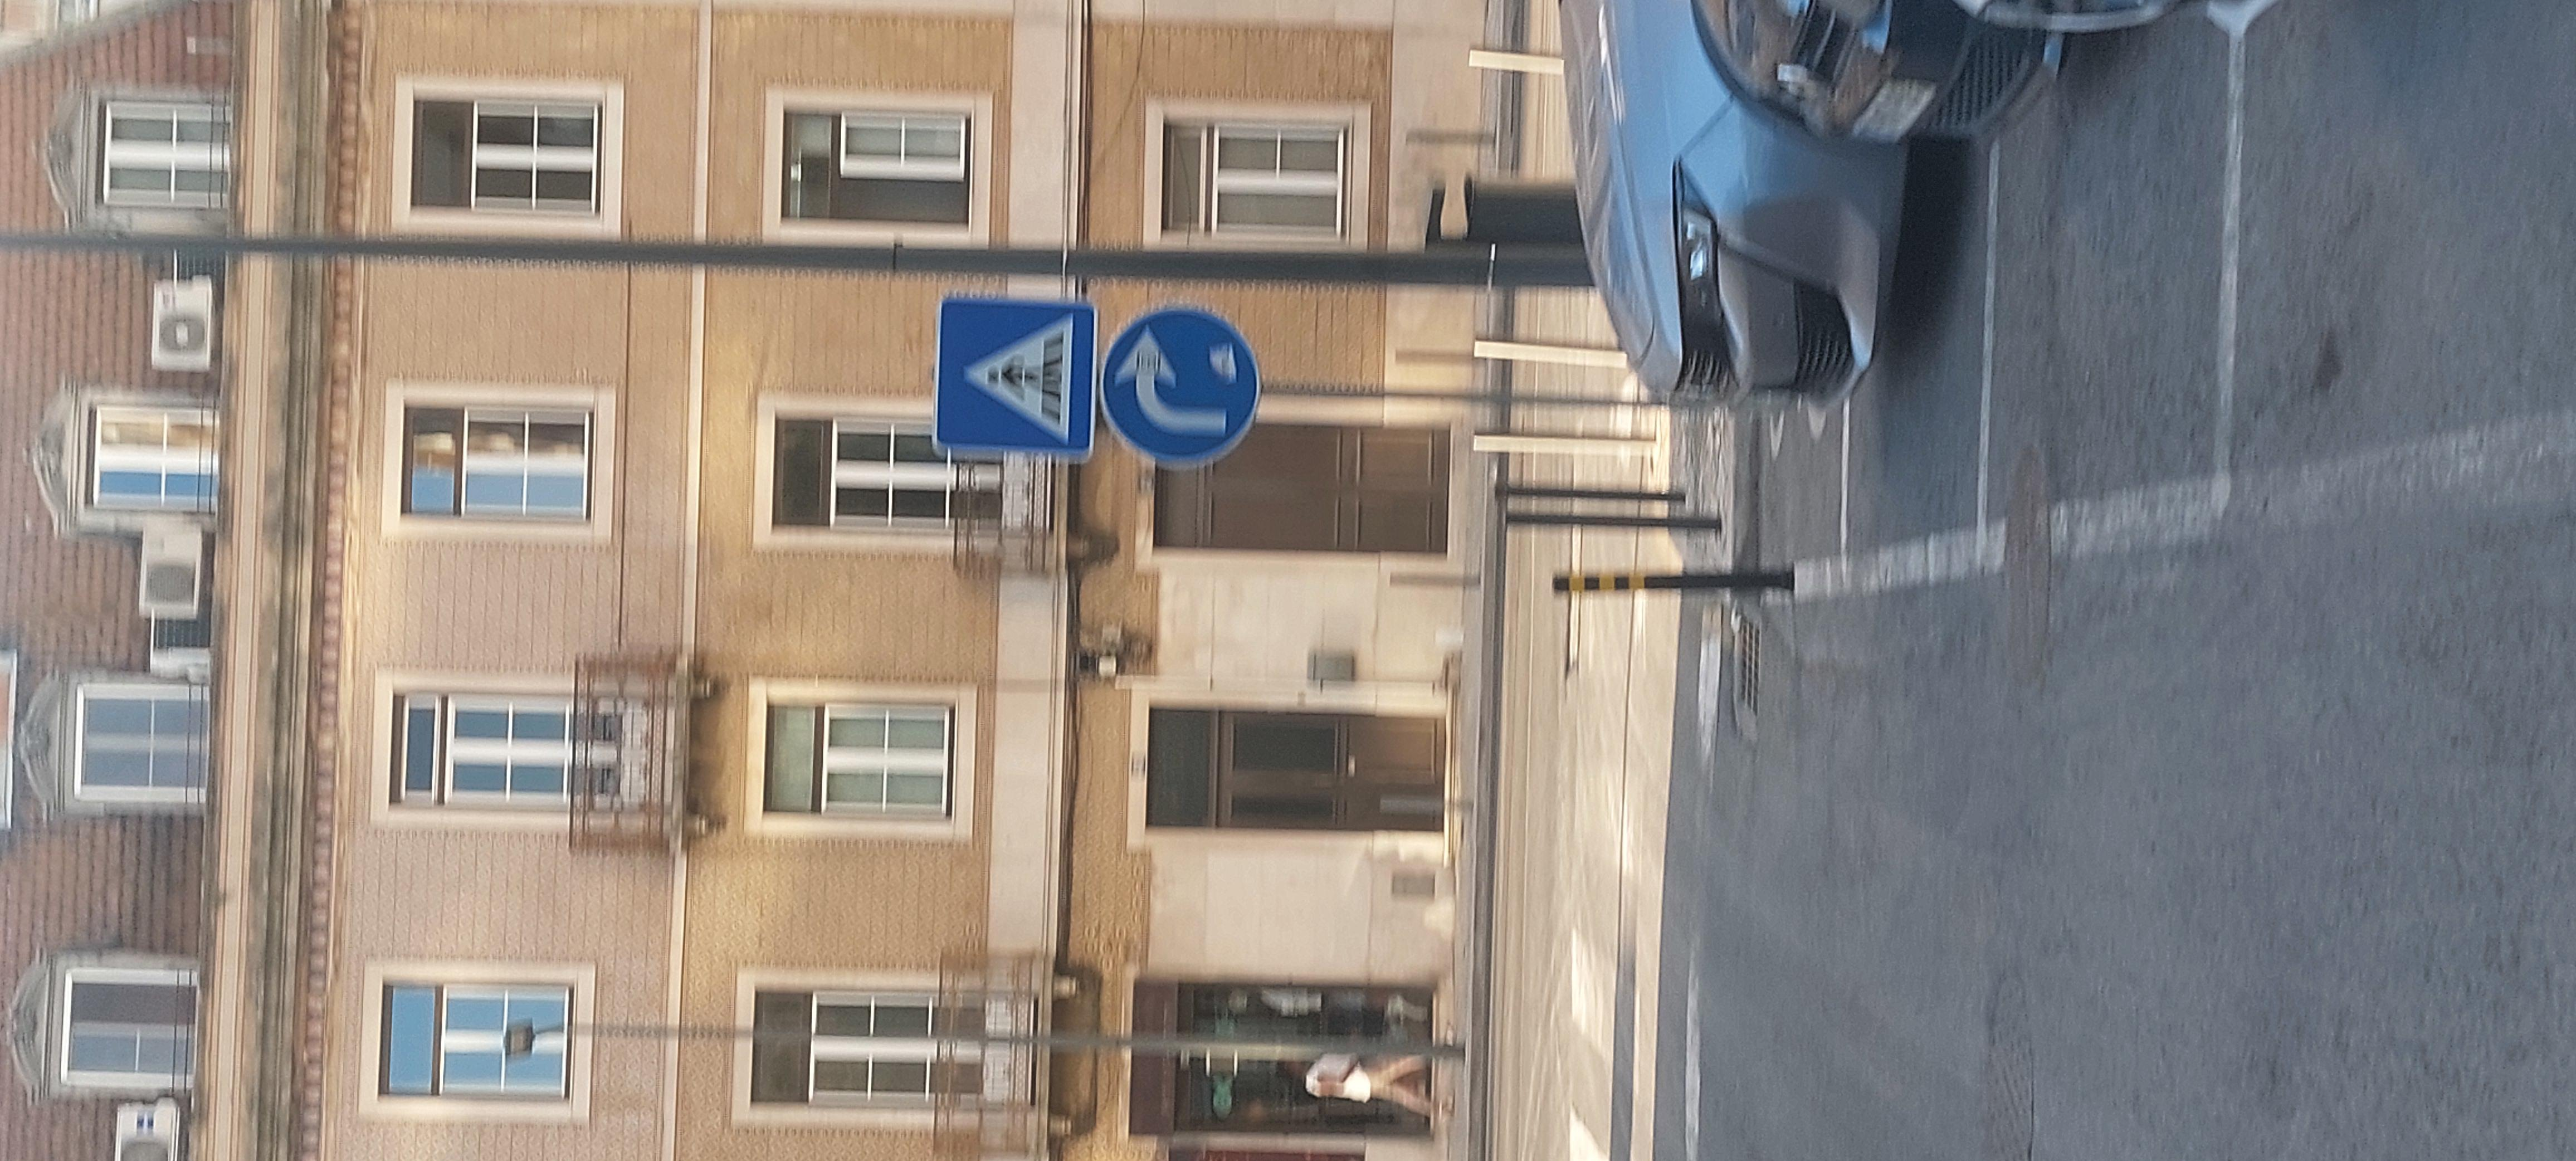passagem para peoes: (1559, 417, 1916, 494)
sentido obrigatorio: (1541, 494, 1907, 575)
